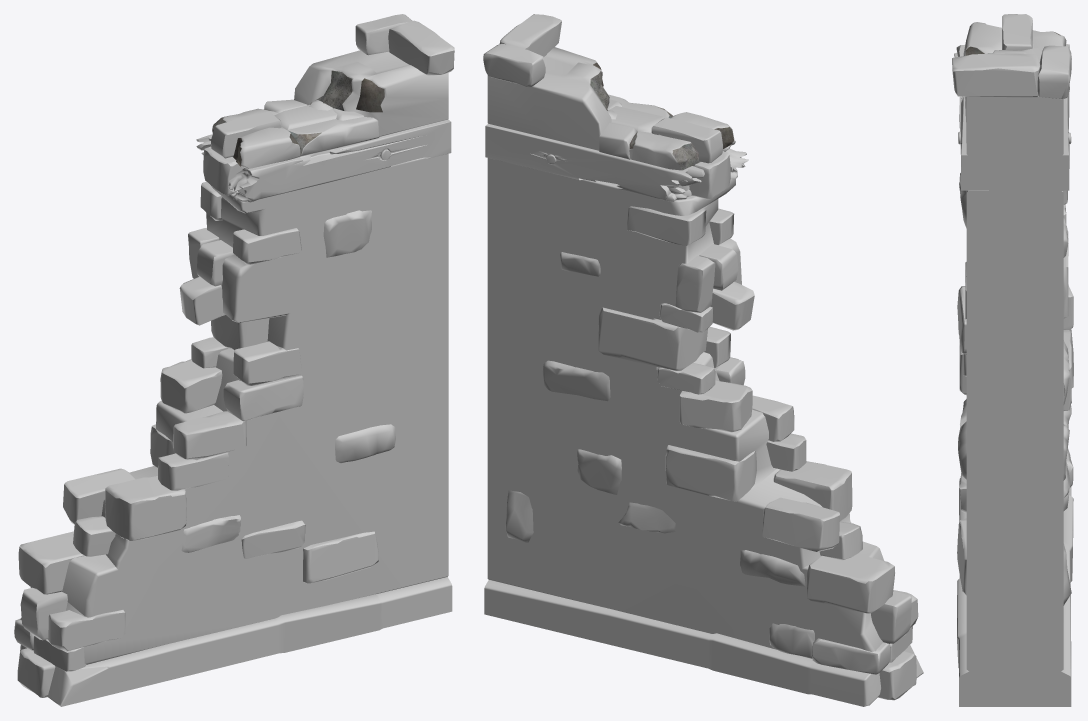
The picture shows the model from 3 angles, left to right: view 1: azimuth 30°, elevation 25°; view 2: azimuth 150°, elevation 25°; view 3: azimuth 270°, elevation 25°; orthographic projection. The views are drawn at different scales.
Parts seen in each view (by area): view 1: SM_Castle_Wall_4x6_01_Dmg_v2_LOD0; view 2: SM_Castle_Wall_4x6_01_Dmg_v2_LOD0; view 3: SM_Castle_Wall_4x6_01_Dmg_v2_LOD0.
Boxes of the visible parts, left/top/right/bottom form: SM_Castle_Wall_4x6_01_Dmg_v2_LOD0: left=14, top=14, right=454, bottom=706; SM_Castle_Wall_4x6_01_Dmg_v2_LOD0: left=483, top=14, right=923, bottom=706; SM_Castle_Wall_4x6_01_Dmg_v2_LOD0: left=952, top=14, right=1073, bottom=706.
Size of the model in its own units: 4.03 by 5.46 by 0.9429.
